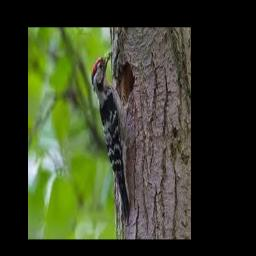Woodpecker: (92, 51, 134, 224)
